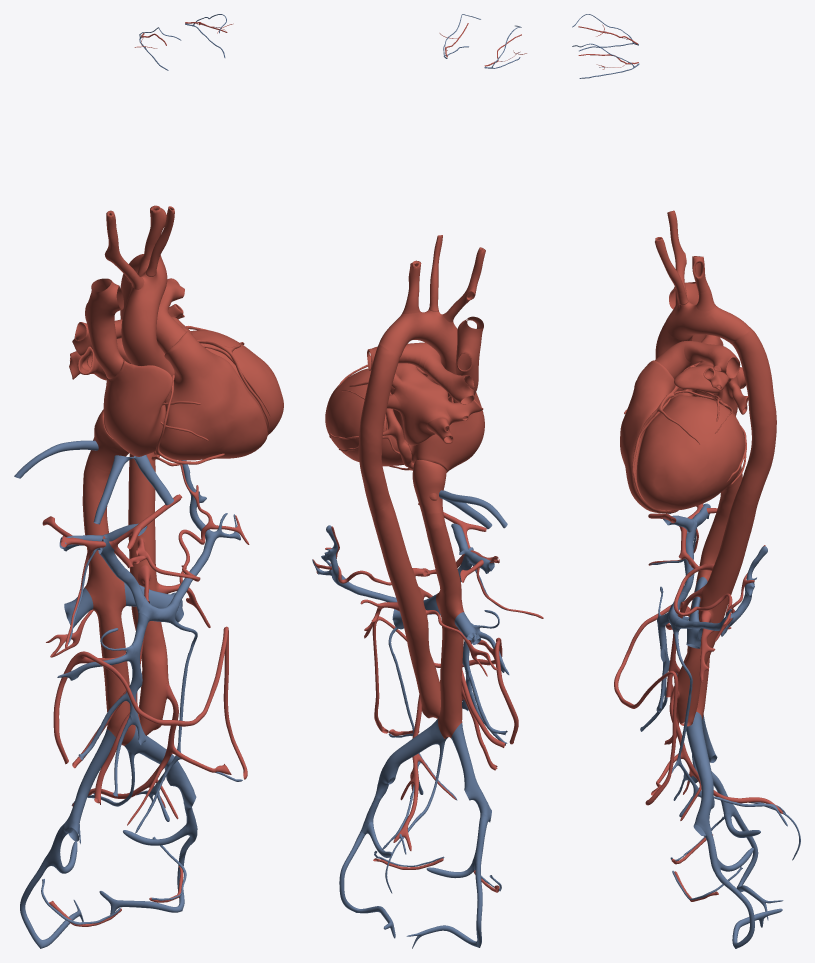
File: cardiovascular.glb
The picture shows the model from 3 angles, left to right: view 1: azimuth 30°, elevation 25°; view 2: azimuth 150°, elevation 25°; view 3: azimuth 270°, elevation 25°; orthographic projection. The views are drawn at different scales.
Visible parts, largest first — view 1: heart right ventricle, inferior vena cava (×2), descending aorta, right cardiac atrium, superior vena cava, heart left ventricle, marginal colic artery, ascending aorta, splenic vein, arch of aorta, Left common iliac vein, Right common iliac vein (+14 smaller); view 2: descending aorta (×2), inferior vena cava (×2), left cardiac atrium, heart left ventricle, right cardiac atrium, arch of aorta, superior vena cava, Left common iliac vein, marginal colic artery, right pulmonary artery, Right common iliac vein, splenic vein (+7 smaller); view 3: heart left ventricle, descending aorta (×2), heart right ventricle, arch of aorta, inferior vena cava, Left common iliac vein, marginal colic artery, splenic vein, left cardiac atrium, superior mesenteric artery (×2), left pulmonary artery, splenic artery (+8 smaller).
Boxes of the visible parts, box(x1,y1,x2,y2) form: heart right ventricle: box(155, 331, 267, 460); inferior vena cava (×2): box(82, 409, 135, 745); descending aorta: box(128, 452, 169, 735); right cardiac atrium: box(103, 359, 173, 456); superior vena cava: box(85, 278, 123, 379); heart left ventricle: box(191, 330, 283, 435); marginal colic artery: box(53, 626, 247, 779); ascending aorta: box(121, 309, 172, 374); splenic vein: box(139, 460, 240, 623); arch of aorta: box(124, 254, 167, 312); Left common iliac vein: box(124, 726, 196, 808); Right common iliac vein: box(64, 729, 115, 841); descending aorta (×2): box(358, 344, 440, 718); inferior vena cava (×2): box(412, 460, 463, 738); left cardiac atrium: box(390, 363, 452, 445); heart left ventricle: box(325, 368, 407, 466); right cardiac atrium: box(408, 392, 484, 472); arch of aorta: box(379, 309, 457, 357); superior vena cava: box(453, 316, 483, 402); Left common iliac vein: box(374, 717, 443, 798); marginal colic artery: box(372, 616, 518, 744); right pulmonary artery: box(423, 354, 474, 404); Right common iliac vein: box(451, 723, 491, 822); splenic vein: box(312, 525, 397, 602); heart left ventricle: box(636, 395, 745, 510); descending aorta (×2): box(674, 329, 776, 726); heart right ventricle: box(620, 360, 678, 513); arch of aorta: box(665, 301, 751, 343); inferior vena cava: box(687, 475, 742, 719); Left common iliac vein: box(686, 712, 714, 835); marginal colic artery: box(614, 605, 690, 805); splenic vein: box(668, 546, 767, 636); left cardiac atrium: box(674, 361, 742, 415); superior mesenteric artery (×2): box(666, 585, 714, 797); left pulmonary artery: box(684, 341, 740, 378); splenic artery: box(673, 545, 765, 641).
Bounding box in the file's own units: 0.1985 × 0.8049 × 0.1862.
